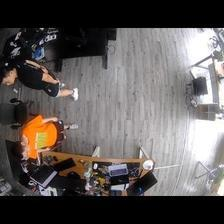normal: (1, 60, 79, 101), (13, 114, 77, 157)
